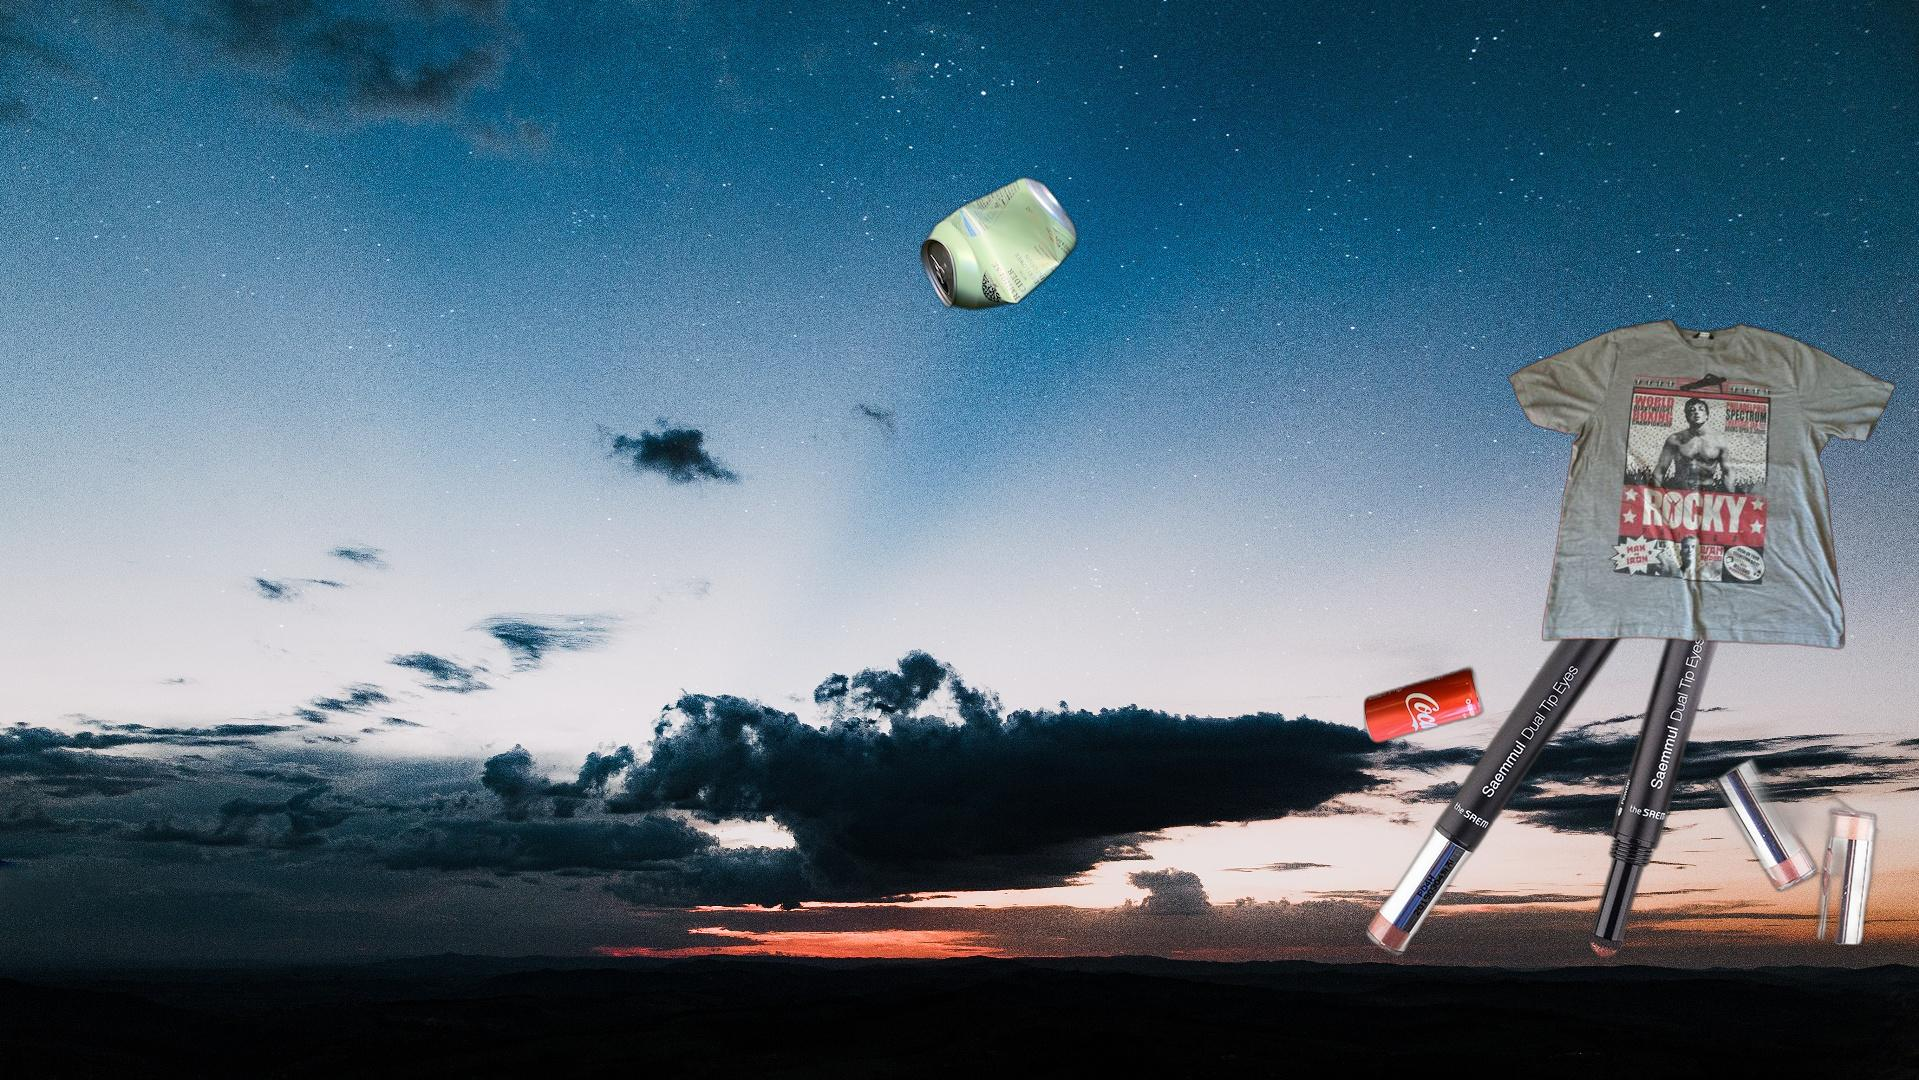clothes: (1506, 315, 1897, 653)
metal-cans: (916, 171, 1082, 316), (1359, 661, 1488, 749)
penholder: (1360, 456, 1887, 963)
